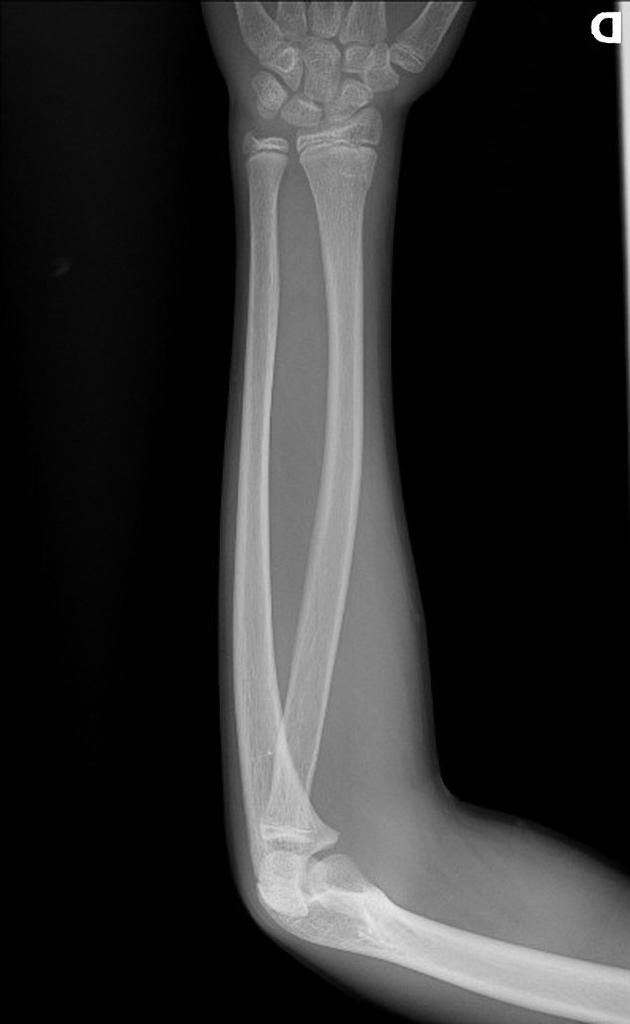line: (339, 170, 369, 192), (240, 751, 273, 766)
